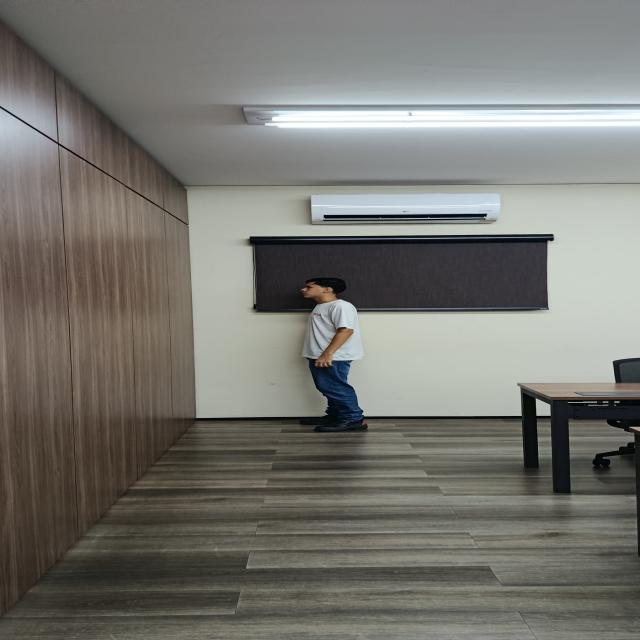sem_oculos: (300, 284, 330, 289)
